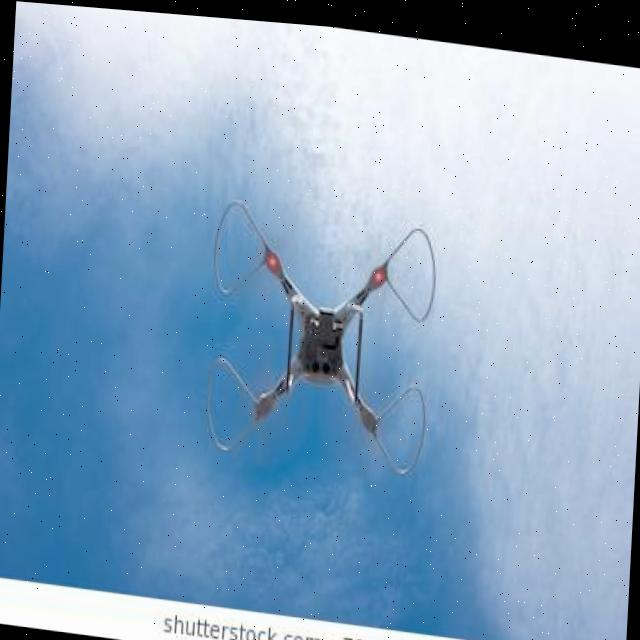drone: (187, 166, 460, 497)
